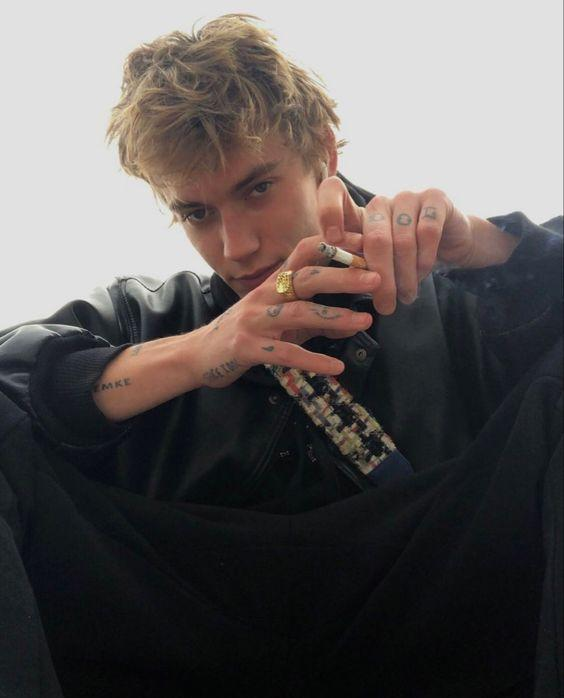cigarette: (319, 241, 368, 270)
